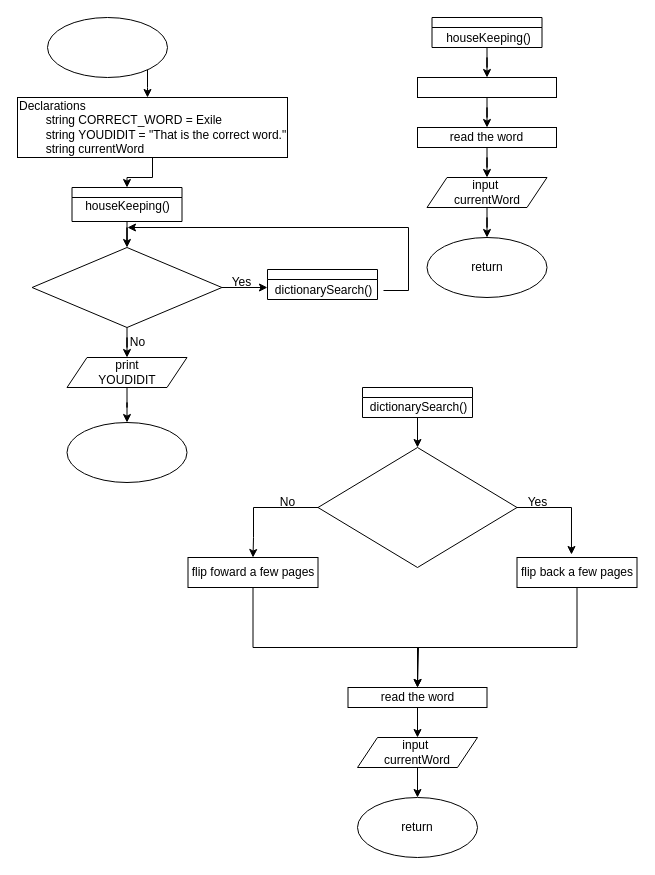
This 655x875 diagram has some shape labels left out. The centre of each missing label's shape, as x and y in pixels:
begin: the point at 107,47
end: the point at 126,452
flip open dictionary: the point at 486,87
is currentWord not = to CORRECT_WORD?: the point at 126,287
is currentWord not before CORRECT_WORD alphabetically?: the point at 417,507
